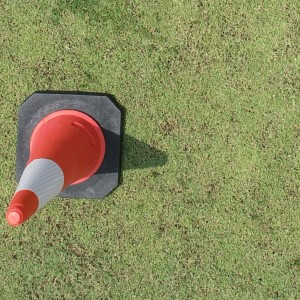traffic cone: (6, 90, 123, 226)
